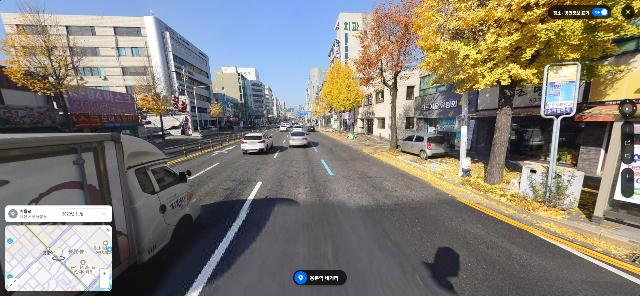ginkgo: (413, 1, 639, 185), (1, 1, 97, 132), (316, 58, 365, 137), (128, 57, 173, 140), (209, 97, 223, 133)
other: (352, 0, 432, 149)
